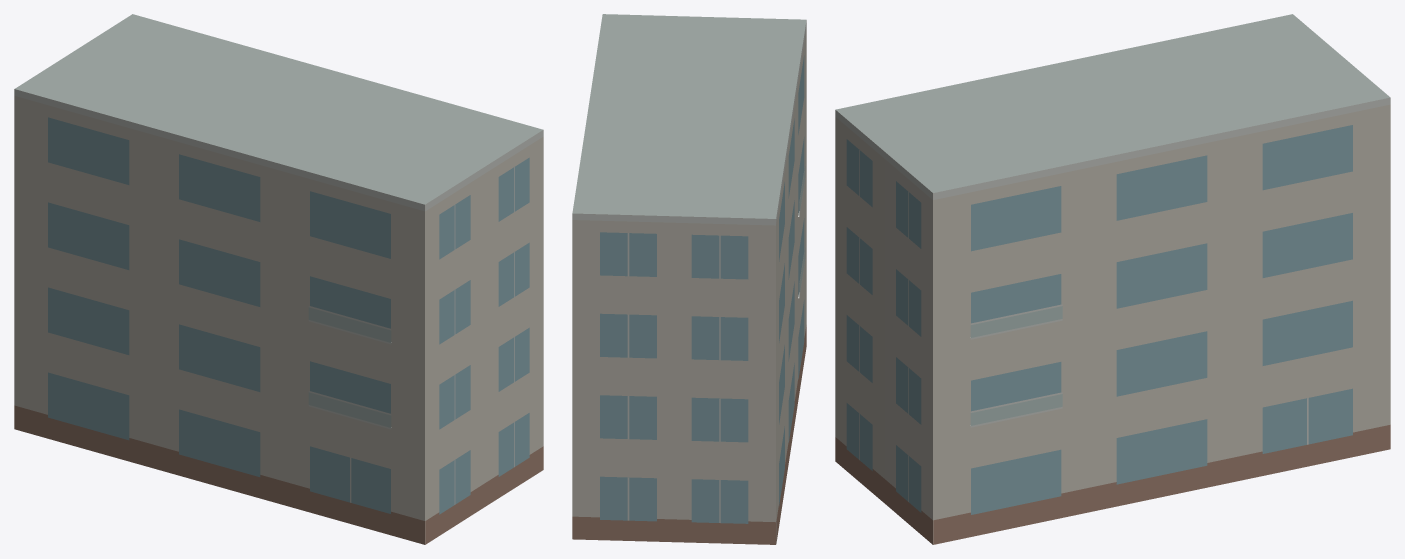
Rendered from residential-6cd82a15-f4e3-4b02-b6c6-fbfac26a2601.glb.
3 views of the same model, side by side, from view 1: azimuth 30°, elevation 25°; view 2: azimuth 150°, elevation 25°; view 3: azimuth 270°, elevation 25° (orthographic). The views are drawn at different scales.
Visible parts, largest first — view 1: residential-6cd82a15-f4e3-4b02-b6c6-fbfac26a2601.tmp; view 2: residential-6cd82a15-f4e3-4b02-b6c6-fbfac26a2601.tmp; view 3: residential-6cd82a15-f4e3-4b02-b6c6-fbfac26a2601.tmp.
Boxes of the visible parts, x1=… form: residential-6cd82a15-f4e3-4b02-b6c6-fbfac26a2601.tmp: x1=14, y1=14, x2=543, y2=544; residential-6cd82a15-f4e3-4b02-b6c6-fbfac26a2601.tmp: x1=572, y1=14, x2=806, y2=544; residential-6cd82a15-f4e3-4b02-b6c6-fbfac26a2601.tmp: x1=835, y1=14, x2=1390, y2=544.
Bounding box in the file's own units: 13.34 × 12.2 × 17.47.
